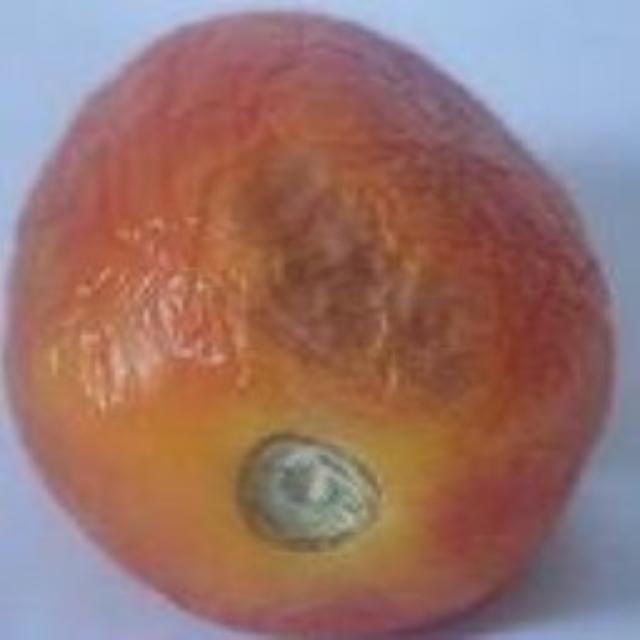defect: (12, 2, 615, 640)
